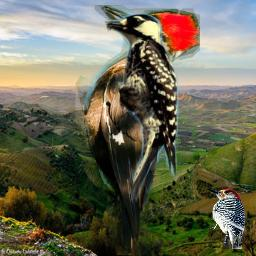Woodpecker: (72, 5, 200, 255), (102, 13, 182, 203), (204, 185, 247, 249)
